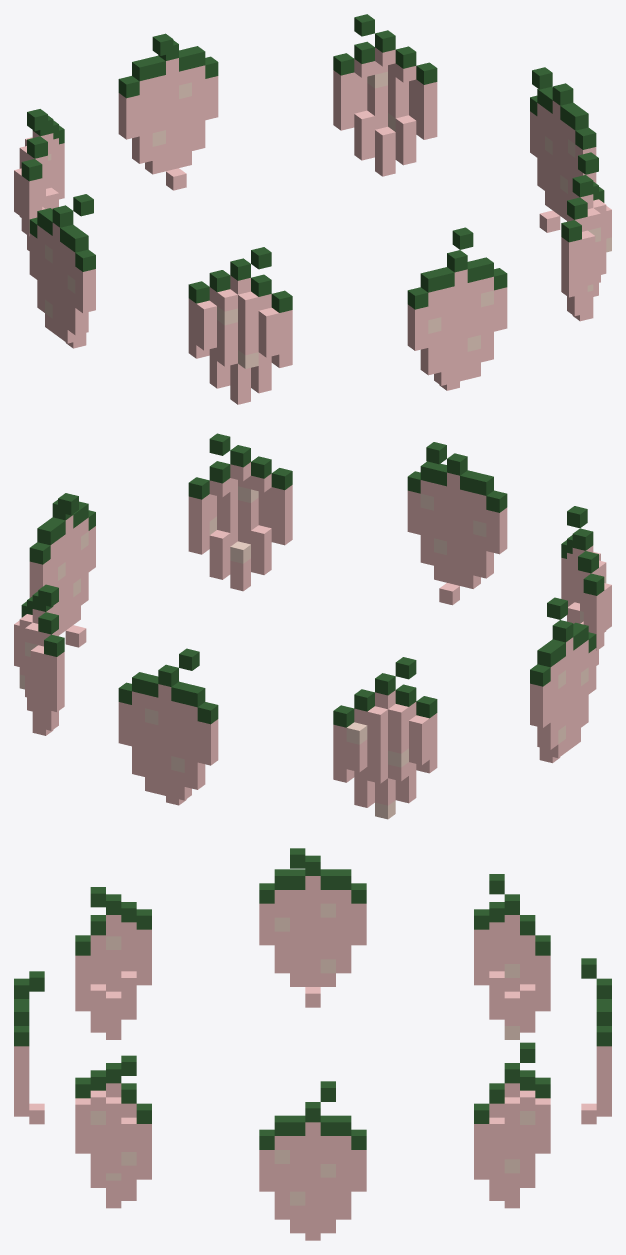
File: strawshield.obj
3 renders of one model, top to bottom at view 1: azimuth 30°, elevation 25°; view 2: azimuth 150°, elevation 25°; view 3: azimuth 270°, elevation 25°, orthographic.
Size of the model in its own units: 3.9 by 1.1 by 3.9.
Materials: 1 (1 with a texture image).
